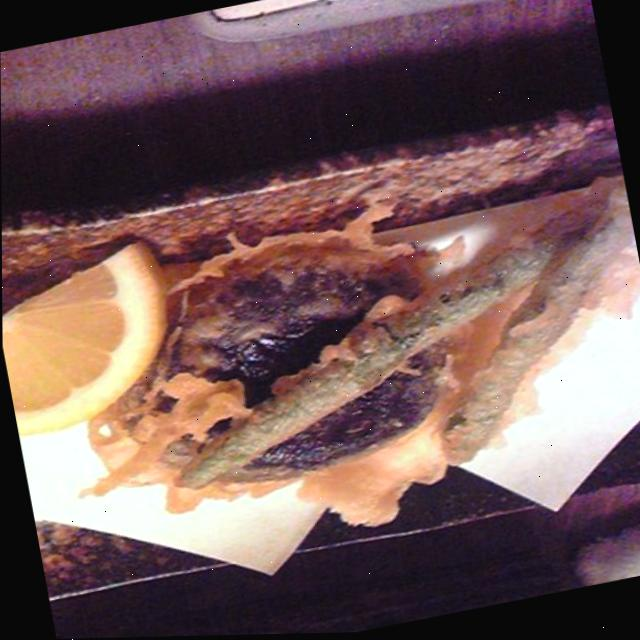蔬菜料理: (55, 165, 640, 578)
